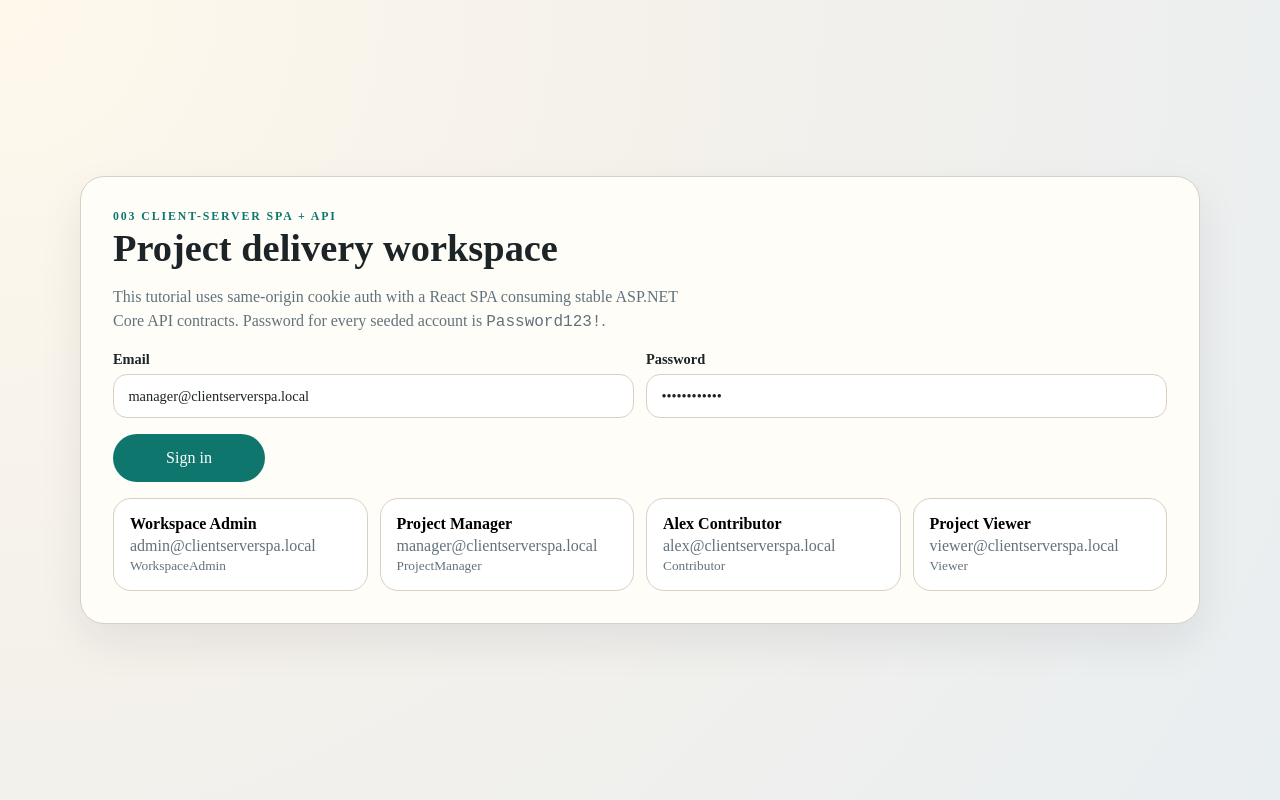
App › updates the email field when a seeded account card is selected
Expected: the heading "Project delivery workspace" is shown, [113,227,558,269]
Click the button "Alex Contributor alex@clientserverspa.local Contributor". click: (773, 545)
box: [646,498,900,591]
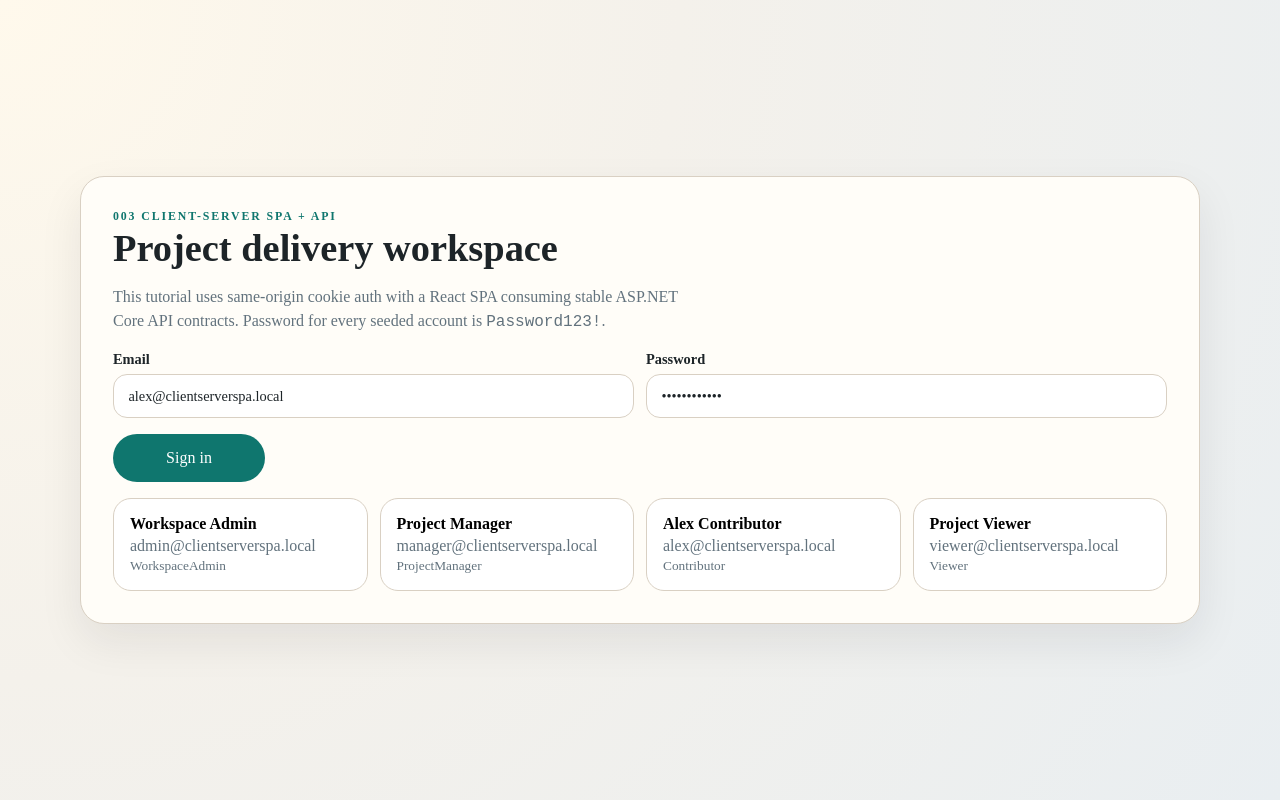
Expected: the field labelled "Email" holds "alex@clientserverspa.local", [113,374,634,418]
